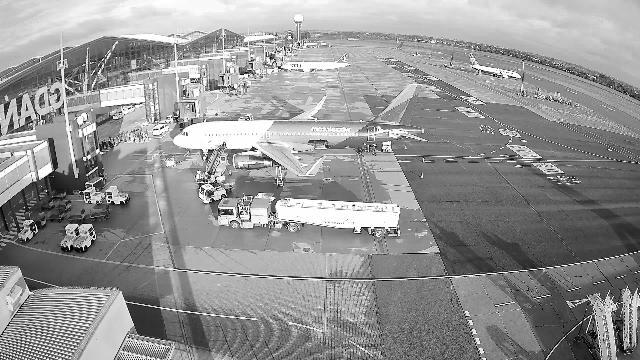Aircraft: (173, 83, 428, 176), (280, 52, 351, 72), (469, 53, 522, 79)
Airport_Tractor: (73, 223, 97, 252), (60, 223, 80, 252), (199, 183, 226, 203), (18, 220, 39, 244), (105, 186, 130, 204), (84, 186, 105, 204), (238, 114, 254, 121)
Baggage_Trolley: (90, 205, 109, 221), (216, 175, 233, 192), (85, 176, 104, 190), (68, 209, 86, 222), (41, 196, 56, 210), (47, 210, 64, 222), (32, 215, 46, 229), (56, 199, 71, 211), (195, 174, 215, 183), (52, 190, 66, 200)
Conveyor_Belt: (205, 145, 230, 174), (205, 106, 222, 116)
Fuel_Tuck: (217, 192, 401, 238)
Ground_Crew: (202, 172, 209, 175), (197, 170, 201, 174)
Passengers: (114, 126, 149, 145), (99, 135, 114, 151)
